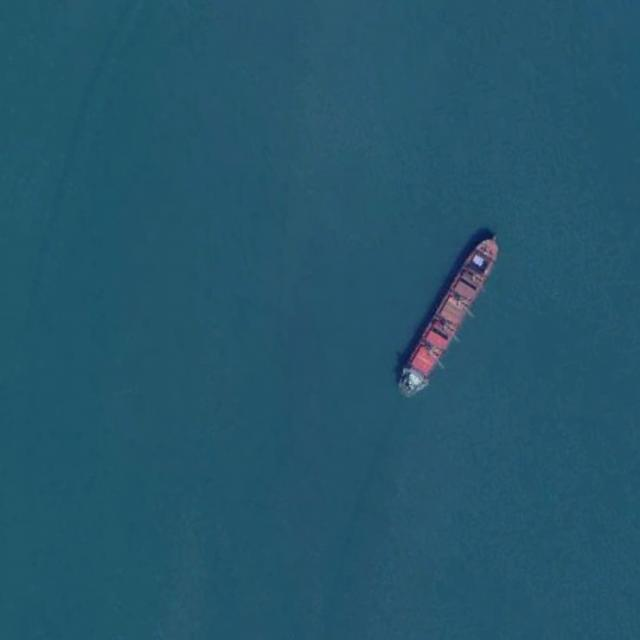ship: (396, 230, 499, 398)
